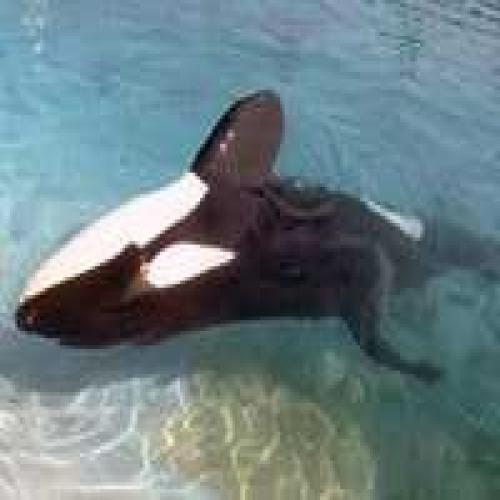killer_whale-endangered: (9, 82, 474, 370)
